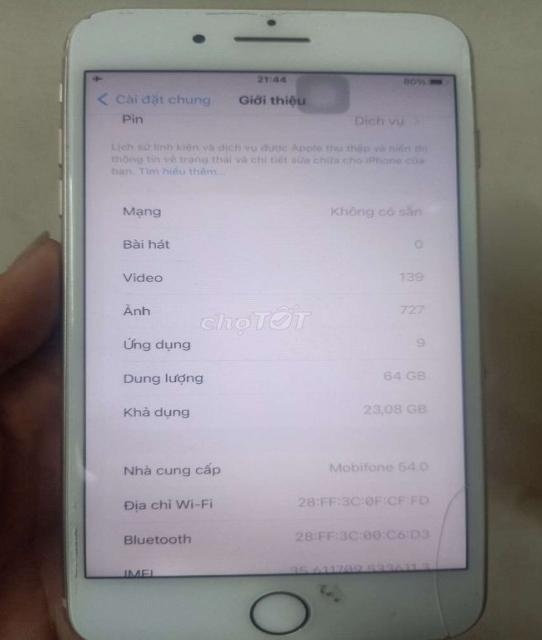physical_damage: (423, 466, 486, 639)
scratch: (114, 6, 384, 19), (61, 492, 84, 596), (441, 16, 483, 72), (314, 577, 352, 607), (77, 9, 98, 20)
